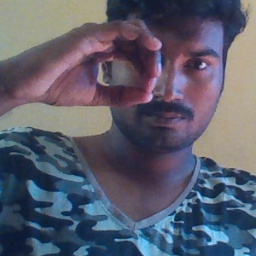O: (29, 11, 165, 111)
